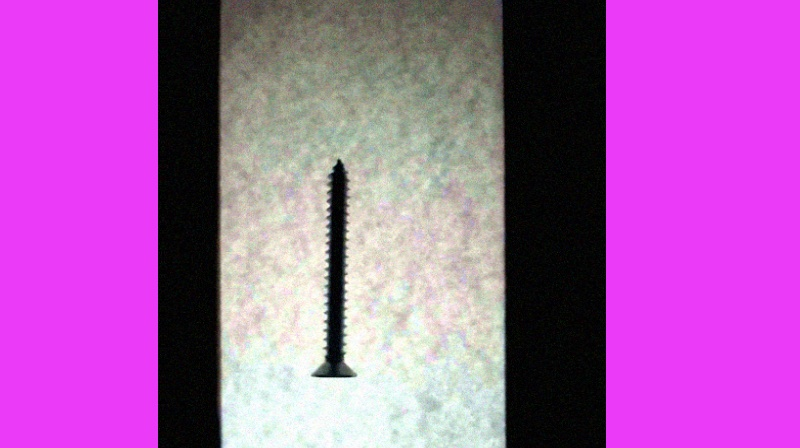S002: (306, 155, 359, 379)
